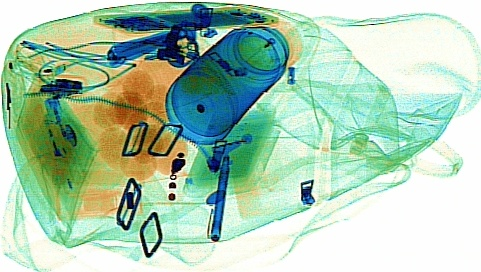lighter: (33, 112, 78, 195), (42, 96, 76, 160)
